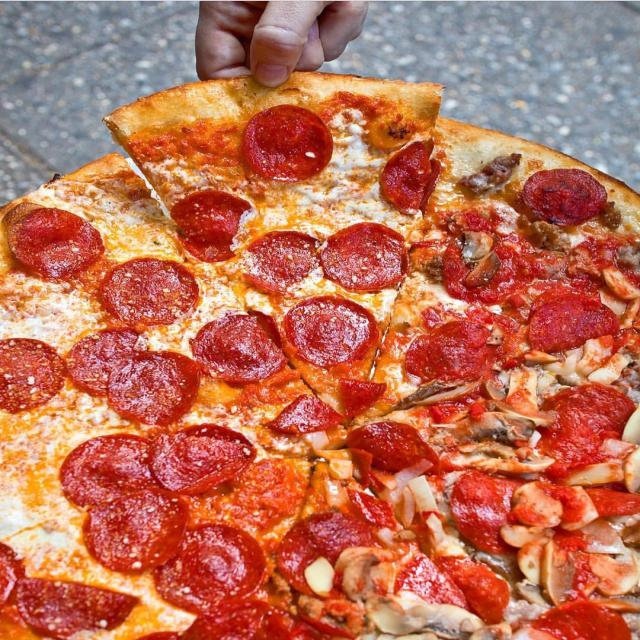mushrooms: (543, 539, 599, 605), (367, 594, 441, 635), (444, 449, 557, 473), (407, 602, 485, 636), (457, 410, 536, 443), (588, 548, 640, 596), (514, 482, 562, 528), (344, 551, 377, 602), (517, 540, 547, 583), (501, 524, 554, 547), (571, 462, 625, 484), (464, 254, 502, 285), (622, 447, 640, 493), (463, 231, 490, 260), (487, 377, 506, 402)
pepperoni: (154, 521, 268, 614), (534, 380, 640, 478), (79, 485, 192, 576), (58, 431, 161, 512), (189, 306, 288, 388), (17, 574, 141, 639), (274, 512, 369, 596), (150, 422, 257, 495), (280, 294, 384, 368), (241, 103, 334, 185), (96, 257, 204, 327), (108, 348, 204, 426), (13, 208, 103, 284), (165, 190, 256, 265), (318, 220, 411, 292), (448, 471, 528, 554), (346, 420, 439, 490), (403, 319, 501, 384), (63, 324, 152, 395), (407, 559, 508, 621), (238, 230, 324, 298), (527, 295, 623, 355), (440, 243, 534, 303), (0, 336, 68, 414), (378, 136, 443, 212), (520, 166, 607, 222), (180, 598, 284, 640), (528, 601, 630, 640), (267, 395, 343, 436), (336, 378, 392, 418), (0, 539, 20, 609)
pizza: (0, 71, 640, 640)
